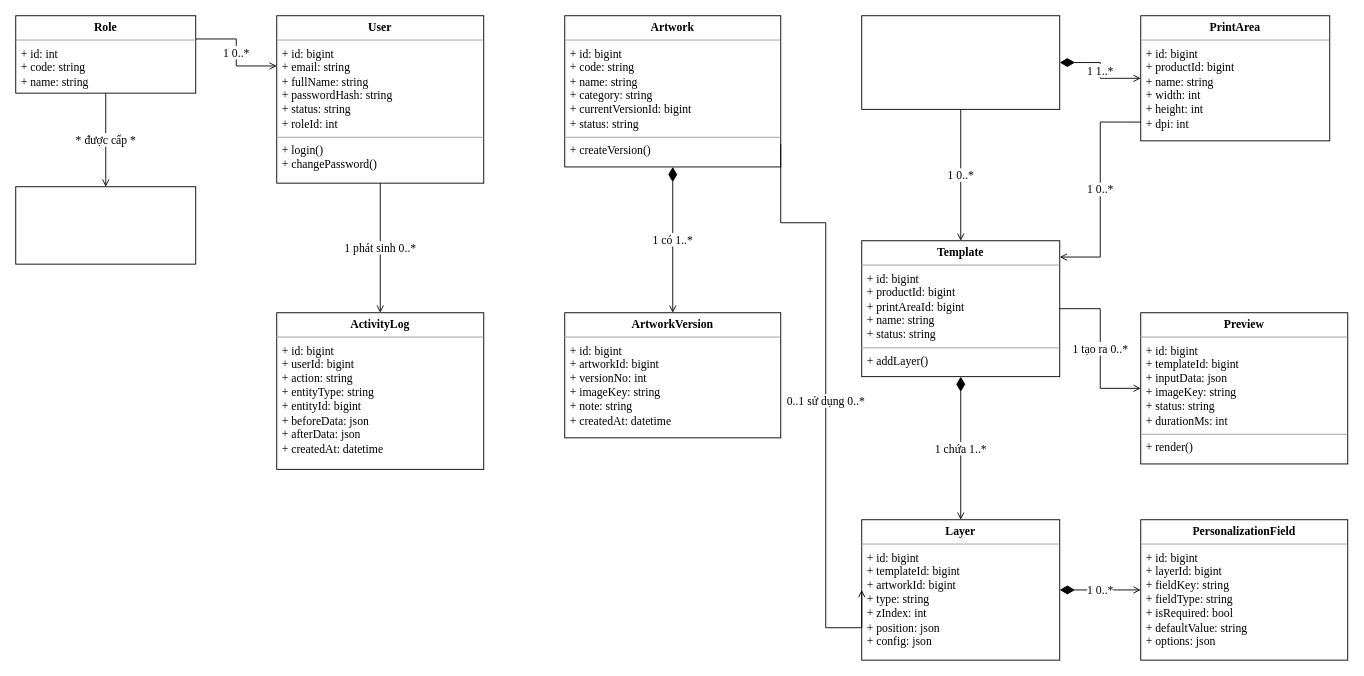
This 1364x676 diagram has some shape labels left out. Here are the shapes that lost their labels. From the top down, the box of each, then its label:
(861, 15, 1060, 109): Product + id: bigint + sku: string + name: string + productType: string
(15, 186, 196, 264): Permission + id: int + code: string + name: string
